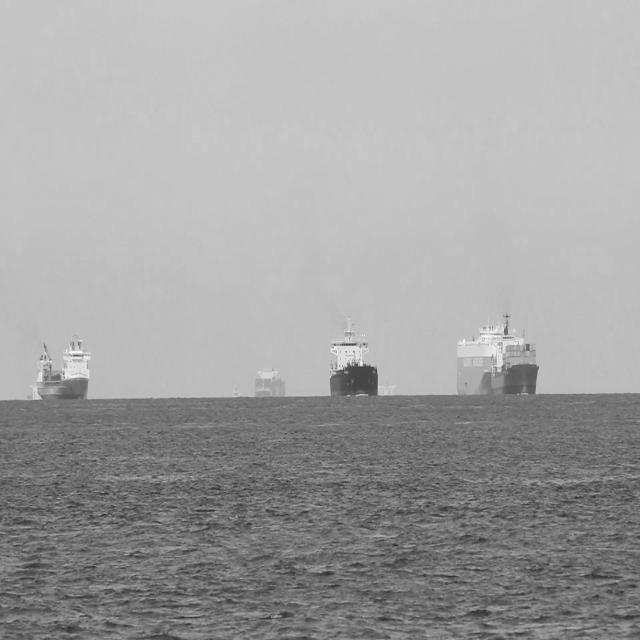ship: (455, 310, 539, 397), (328, 312, 378, 400), (35, 330, 91, 400), (254, 366, 286, 401), (377, 385, 396, 398), (231, 384, 241, 401), (27, 380, 35, 400)
